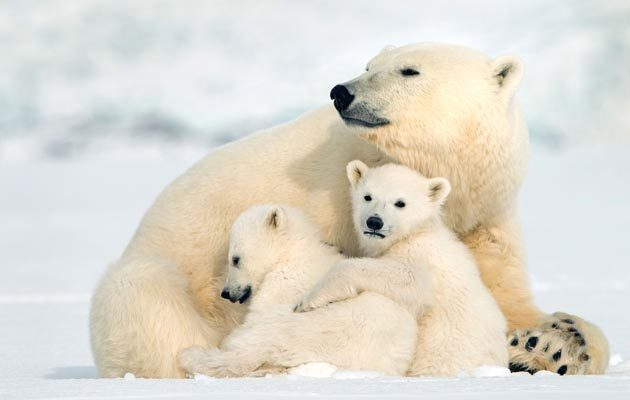Polar Bear: (88, 17, 597, 395), (336, 161, 531, 372), (202, 205, 401, 381)
